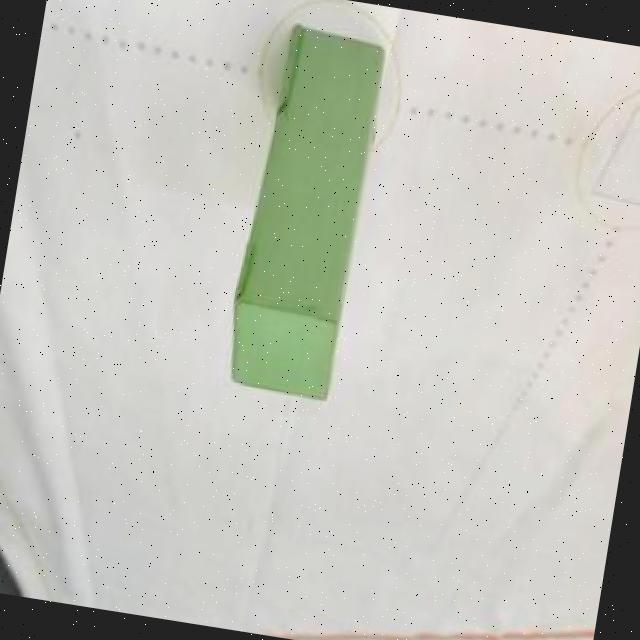greenbox: (218, 22, 398, 404)
